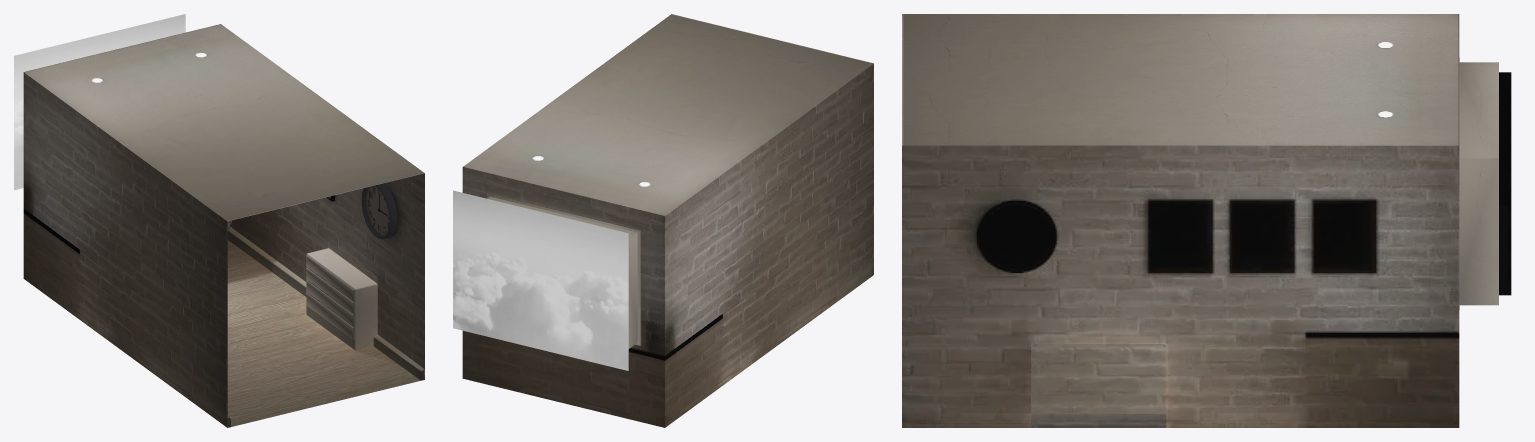
Rendered from room-office-small.glb.
3 renders of one model, left to right at view 1: azimuth 30°, elevation 25°; view 2: azimuth 150°, elevation 25°; view 3: azimuth 270°, elevation 25°, orthographic. The views are drawn at different scales.
Visible parts, largest first — view 1: Small_Office_Wall_0, Small_Office_Roof_0, Small_Office_Floor_0, Small_Office_Cupboard_0, Backdrop_Backdrop_0, Small_Office_SkirtingBoard_0, Small_Office_ClockWindow_0, Small_Office_Clockface_0, Small_Office_ClockOutside_0; view 2: Small_Office_Wall_0, Small_Office_Roof_0, Backdrop_Backdrop_0; view 3: Small_Office_Wall_0, Small_Office_Roof_0, Small_Office_Cupboard_0, Small_Office_Bin_0.
Part boxes in pixels (<box>): Small_Office_Wall_0: <box>23,72,424,427</box>; Small_Office_Roof_0: <box>24,24,424,221</box>; Small_Office_Floor_0: <box>227,240,424,427</box>; Small_Office_Cupboard_0: <box>306,248,377,350</box>; Backdrop_Backdrop_0: <box>14,14,185,190</box>; Small_Office_SkirtingBoard_0: <box>227,226,424,427</box>; Small_Office_ClockWindow_0: <box>363,186,388,236</box>; Small_Office_Clockface_0: <box>366,185,389,235</box>; Small_Office_ClockOutside_0: <box>361,183,397,239</box>; Small_Office_Wall_0: <box>462,63,873,427</box>; Small_Office_Roof_0: <box>463,14,873,348</box>; Backdrop_Backdrop_0: <box>453,190,628,370</box>; Small_Office_Wall_0: <box>902,145,1459,427</box>; Small_Office_Roof_0: <box>902,14,1498,309</box>; Small_Office_Cupboard_0: <box>1031,344,1166,427</box>; Small_Office_Bin_0: <box>1499,72,1511,295</box>.
Bounding box in the file's own units: 2.02 × 2.01 × 4.
Materials: 24 (24 with a texture image).
